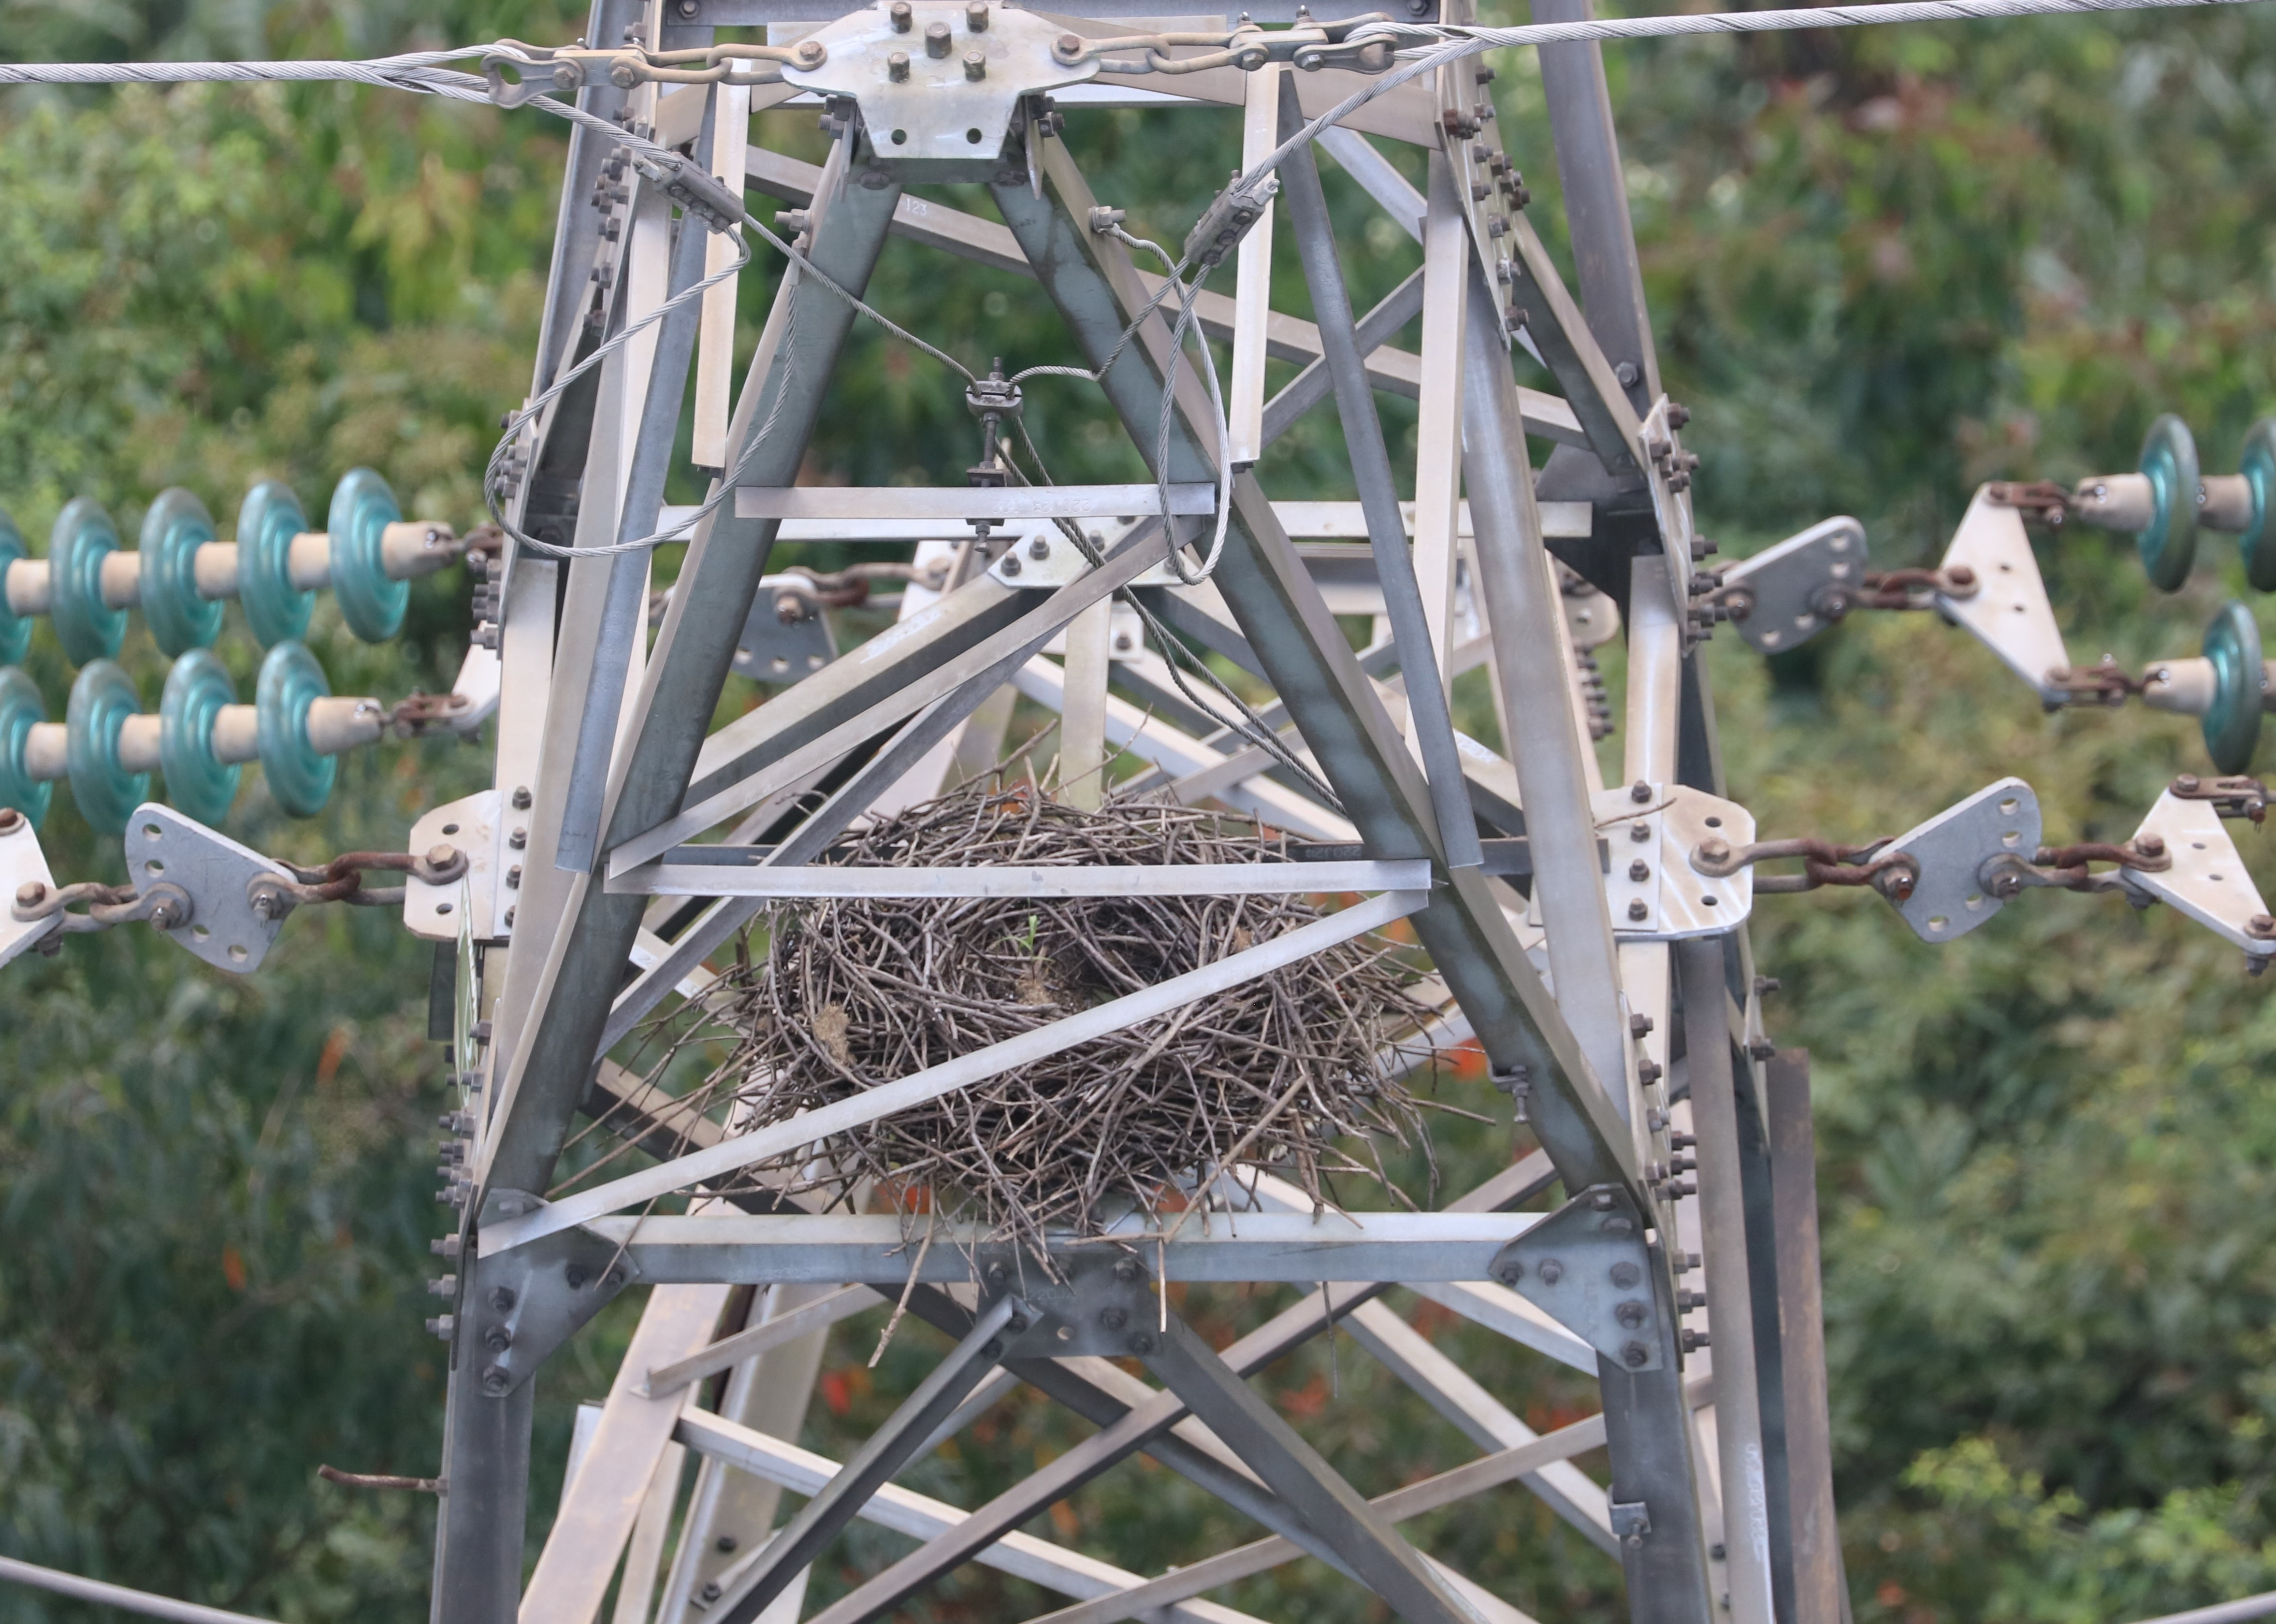niaowo: (736, 756, 1417, 1257)
